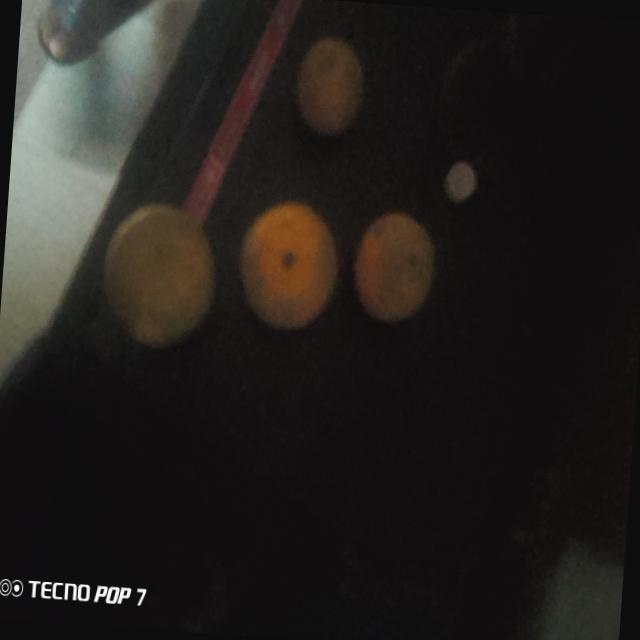agrume: (231, 197, 337, 331), (350, 207, 432, 329), (291, 34, 367, 132)
